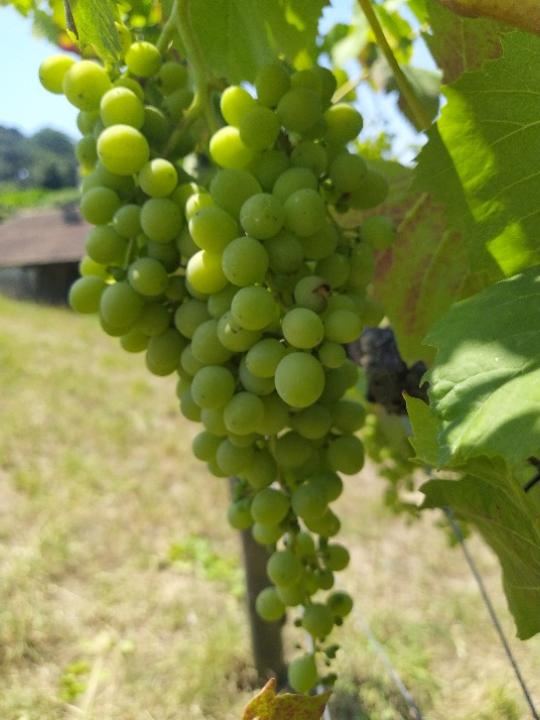grape: (34, 41, 401, 697)
